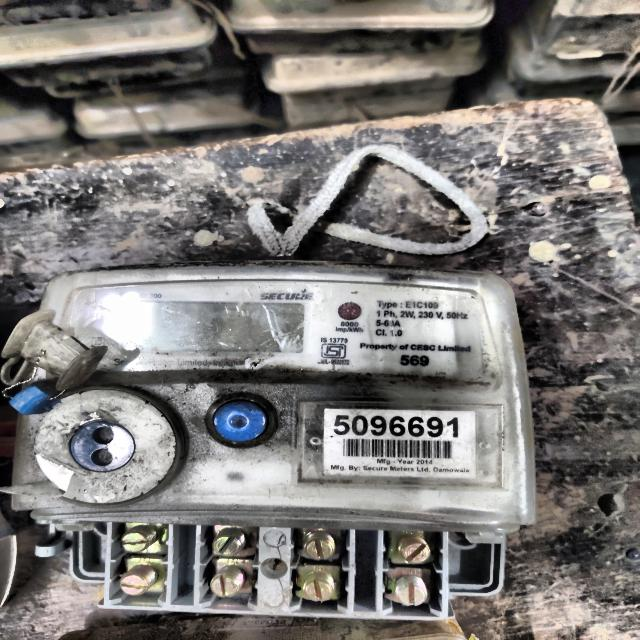Digital: (0, 253, 557, 630)
Reading: (105, 304, 302, 352)
Serial No.: (333, 414, 460, 438)
